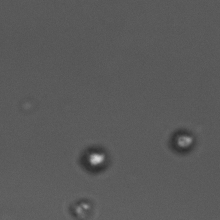Living Cell: (80, 145, 111, 176), (168, 125, 199, 156), (68, 195, 97, 220)
